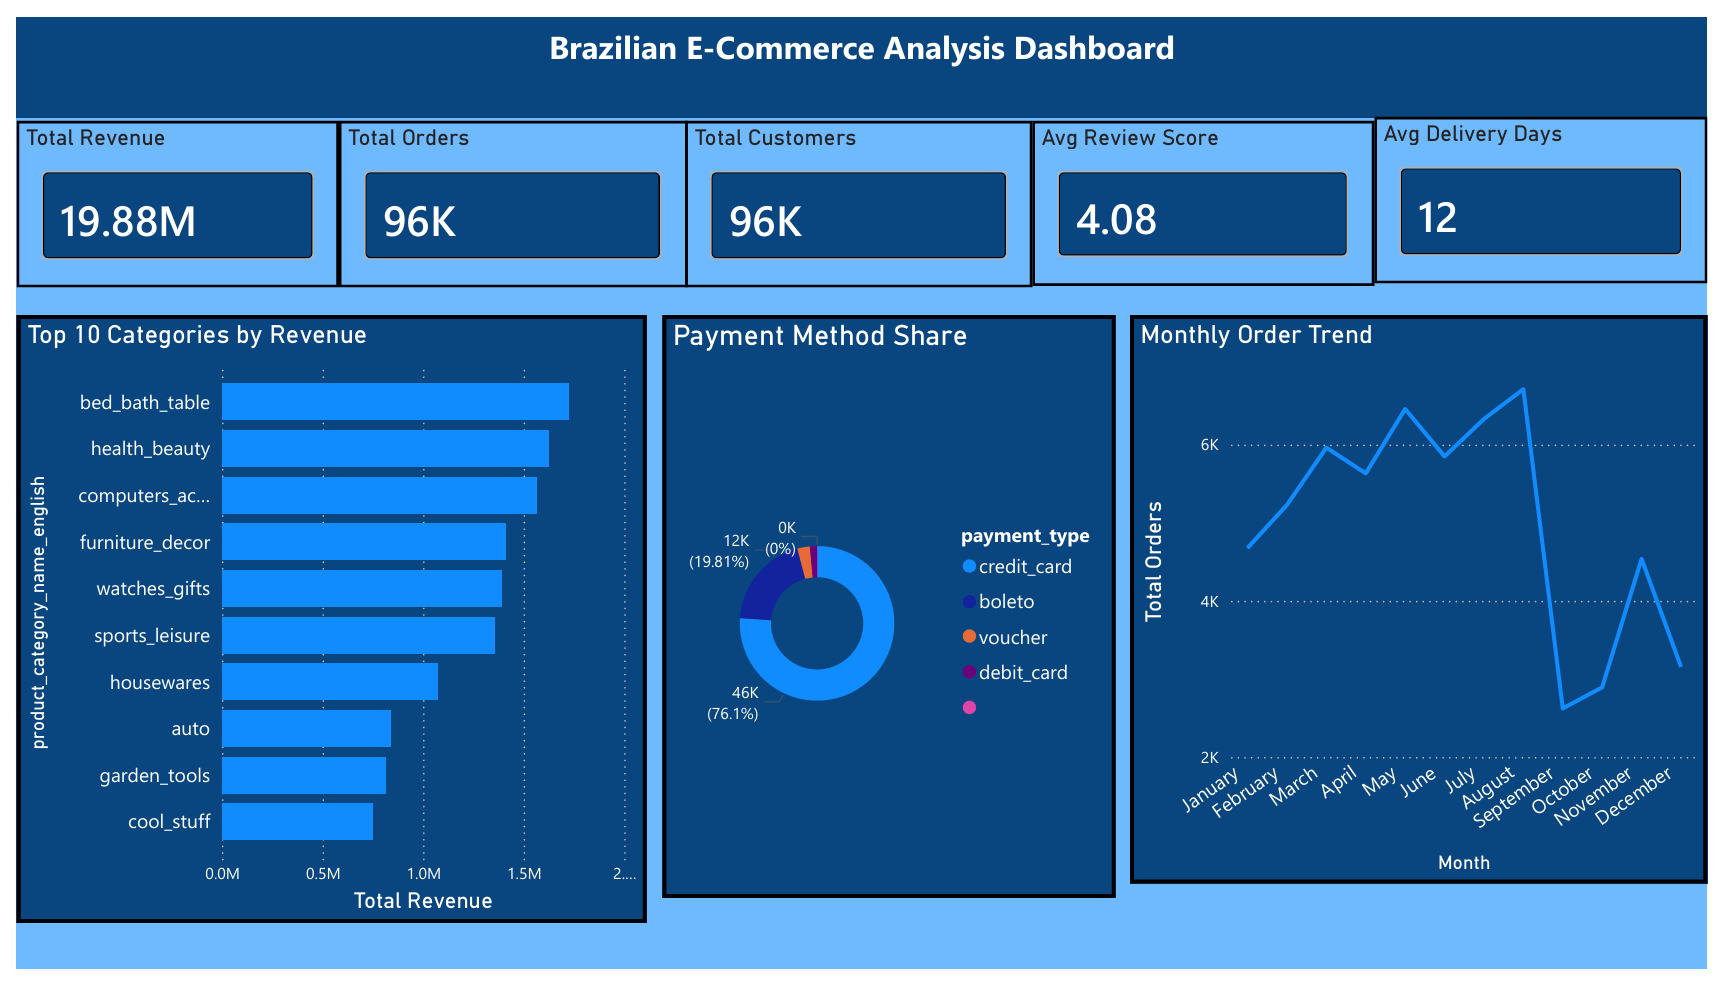

This screenshot's page, from the dashboard's own definition file:
{"tool":"powerbi","page":{"name":" Executive Summary","canvas":[1280,720],"ordinal":0},"visuals":[{"type":"cardVisual","title":"Total Revenue","fields":{"Data":["master_clean.Total Revenue"]},"box":[0,78.2,244.3,126.1],"z":0},{"type":"clusteredBarChart","title":"Top 10 Categories by Revenue","fields":{"Category":["master_clean.product_category_name_english"],"Y":["master_clean.Total Revenue"]},"box":[0,225.1,477.3,459.8],"z":6},{"type":"textbox","box":[0,0,1280,75.7],"z":8},{"type":"cardVisual","title":"Total Orders","fields":{"Data":["master_clean.Total Orders"]},"box":[244.3,78.2,263.4,126.1],"z":9},{"type":"cardVisual","title":"Total Customers","fields":{"Data":["master_clean.Total Customers"]},"box":[506.1,78.2,263.4,126.1],"z":10},{"type":"cardVisual","title":"Avg Review Score","fields":{"Data":["master_clean.Avg Review Score"]},"box":[769.5,78.2,258.6,124.5],"z":11},{"type":"cardVisual","title":"Avg Delivery Days","fields":{"Data":["master_clean.Avg Delivery Days"]},"box":[1028.1,75,252.2,126.1],"z":12},{"type":"lineChart","title":"Monthly Order Trend","fields":{"Category":["master_clean.order_purchase_timestamp.Variation.Date Hierarchy.Month"],"Y":["master_clean.Total Orders"]},"box":[842.9,225.1,437.4,429.4],"z":13},{"type":"donutChart","title":"Payment Method Share","fields":{"Y":["master_clean.Total Orders"],"Category":["master_clean.payment_type"]},"box":[488.5,225.1,343.2,440.6],"z":14}]}

Visuals, with their boxes in screenshot pixels (x1, y1, x2, y2), scaled from the page's 1280x720 canvas onto the 1722x987 screenshot:
"Total Revenue" cardVisual: pyautogui.locateOnScreen(0, 107, 329, 280)
"Top 10 Categories by Revenue" clusteredBarChart: pyautogui.locateOnScreen(0, 309, 642, 939)
textbox: pyautogui.locateOnScreen(0, 0, 1721, 104)
"Total Orders" cardVisual: pyautogui.locateOnScreen(329, 107, 683, 280)
"Total Customers" cardVisual: pyautogui.locateOnScreen(681, 107, 1035, 280)
"Avg Review Score" cardVisual: pyautogui.locateOnScreen(1035, 107, 1383, 278)
"Avg Delivery Days" cardVisual: pyautogui.locateOnScreen(1383, 103, 1721, 276)
"Monthly Order Trend" lineChart: pyautogui.locateOnScreen(1134, 309, 1721, 897)
"Payment Method Share" donutChart: pyautogui.locateOnScreen(657, 309, 1119, 913)
